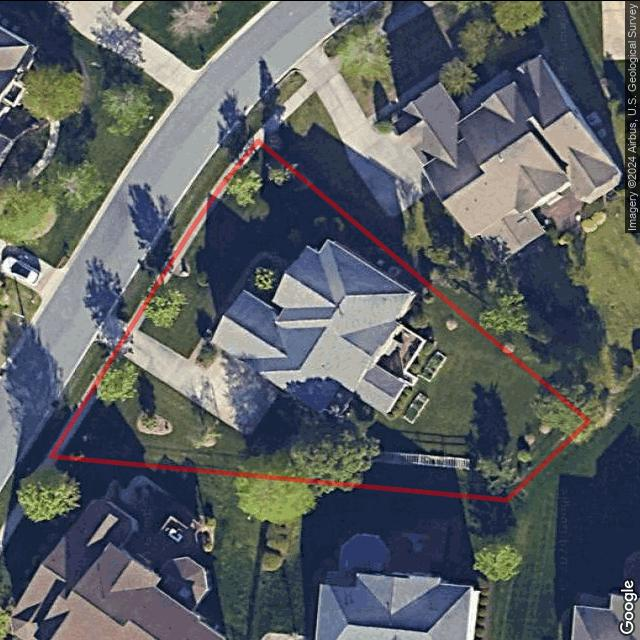Driveway: (116, 324, 284, 437)
Extra-Driveway: (92, 308, 133, 350)
Extra-Lawn: (112, 121, 254, 324), (35, 339, 113, 454)
Extra-Sidewalk: (129, 137, 257, 325), (48, 347, 117, 455)
House: (210, 238, 419, 413)
Lawn: (51, 139, 591, 500)
Other: (273, 200, 414, 291), (354, 324, 426, 415), (373, 449, 471, 468), (137, 410, 173, 435), (402, 390, 429, 423), (422, 350, 448, 382), (254, 267, 274, 289), (173, 256, 189, 277), (447, 318, 458, 329)
Sidewalk: (132, 140, 261, 329), (190, 249, 290, 363), (51, 350, 123, 456)
